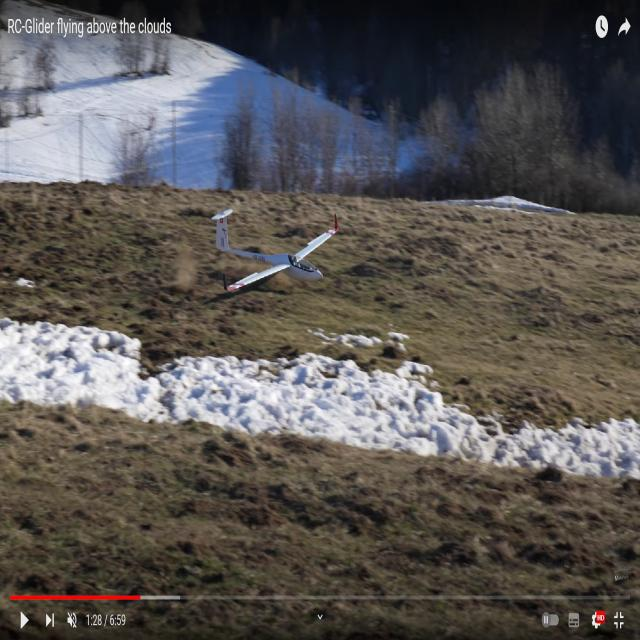iha: (211, 236, 344, 264)
